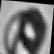correct: (0, 0, 51, 54)
